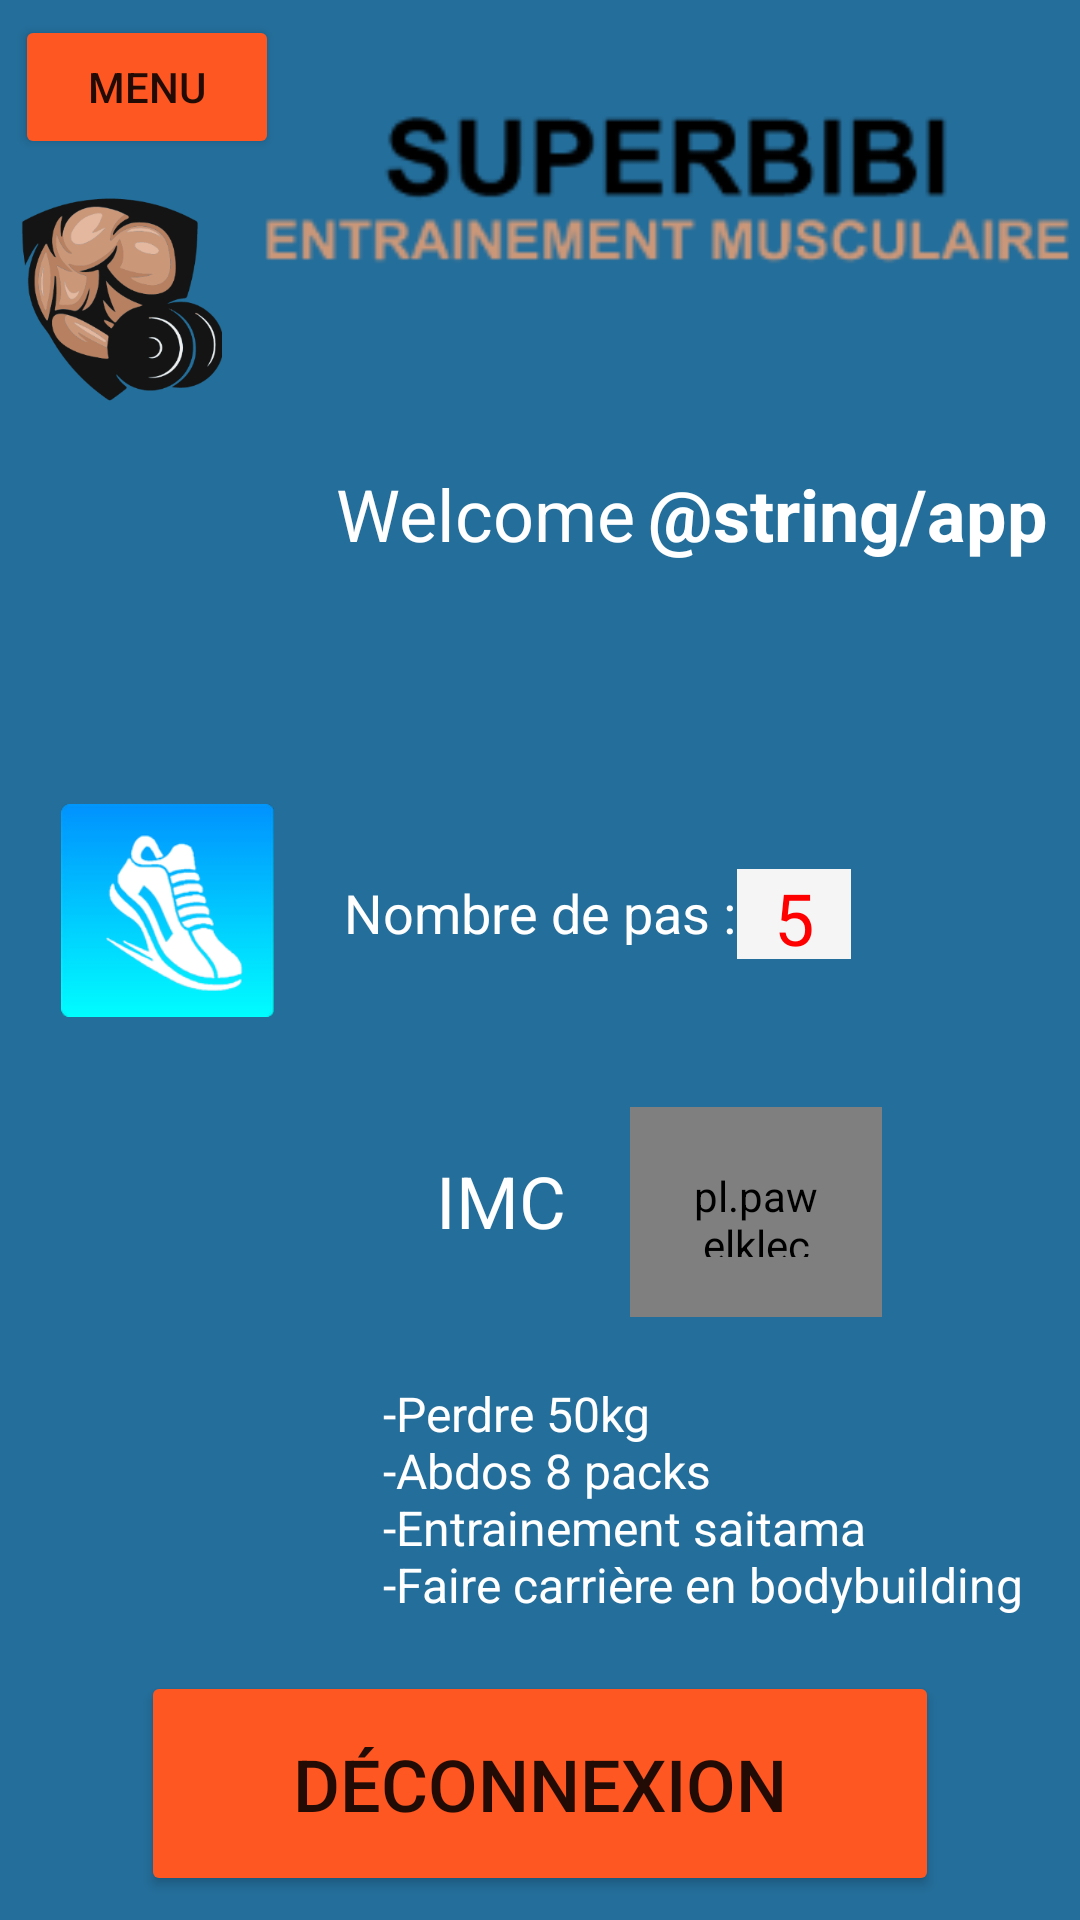

Screen size 1080px x 1920px. Icon name, then its box in pixels as detection(x1, y1, x2, y2):
podom tre ne: detection(61, 804, 274, 1017)
